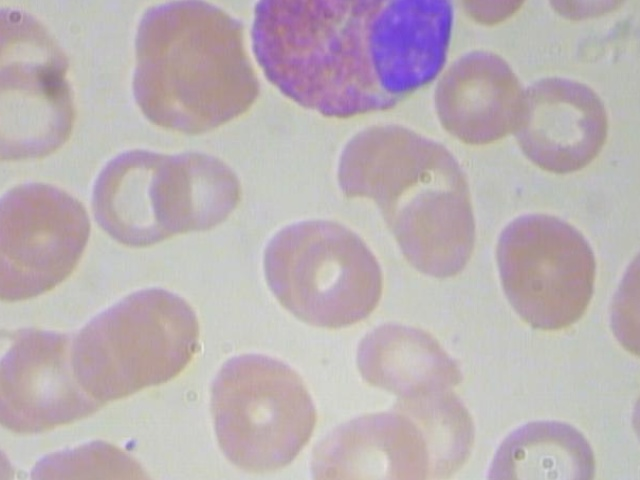RBC: (250, 213, 390, 340), (487, 206, 607, 341), (494, 73, 614, 183), (210, 361, 323, 477), (347, 306, 471, 404), (0, 164, 101, 279), (431, 43, 533, 148), (146, 141, 247, 246), (0, 61, 93, 166), (478, 415, 602, 480)
WBC: (235, 0, 464, 137)
